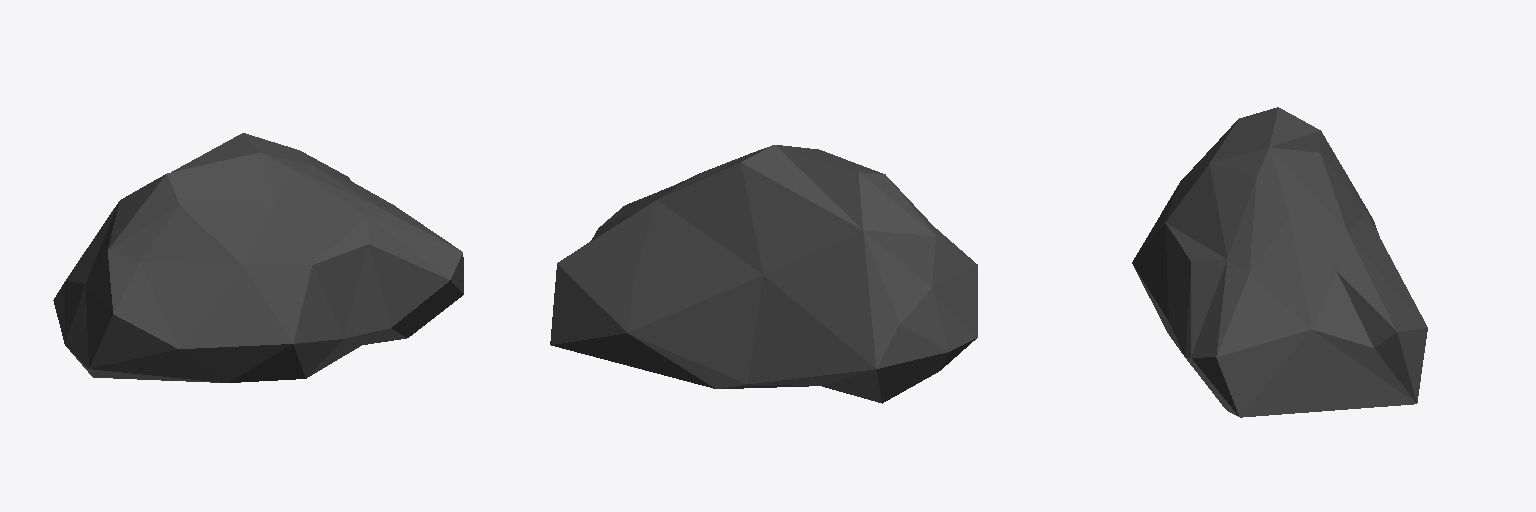
The model's file is rock2.obj.
3 views of the same model, side by side, from view 1: azimuth 30°, elevation 25°; view 2: azimuth 150°, elevation 25°; view 3: azimuth 270°, elevation 25° (orthographic).
Parts seen in each view (by area): view 1: low_poly_rock_7; view 2: low_poly_rock_7; view 3: low_poly_rock_7.
Boxes of the visible parts, x1,y1,x2,y2 form: low_poly_rock_7: [53, 133, 463, 382]; low_poly_rock_7: [550, 145, 977, 403]; low_poly_rock_7: [1132, 107, 1427, 417].
Bounding box in the file's own units: 1.54 × 0.8459 × 1.05.